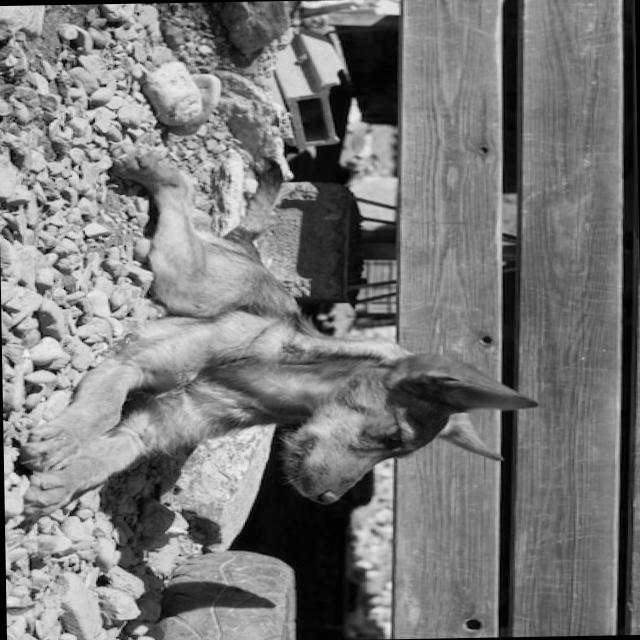laying down: (8, 134, 549, 537)
